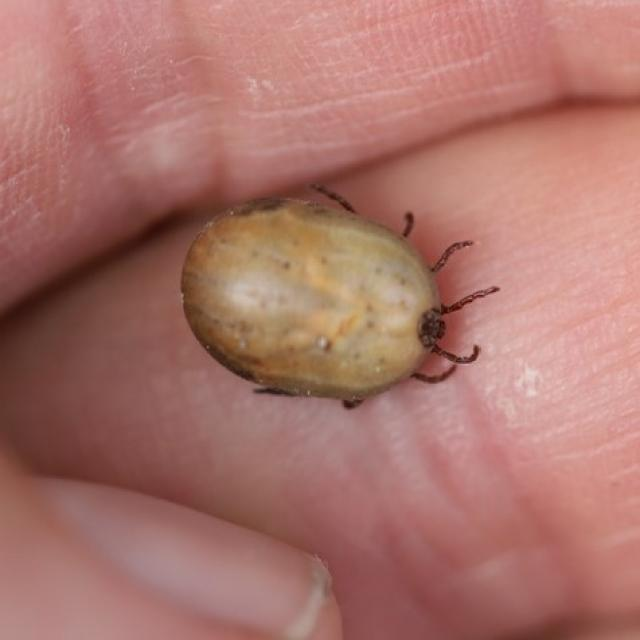Dermacentor Reticulatus-F-Fed: (182, 184, 500, 408)
